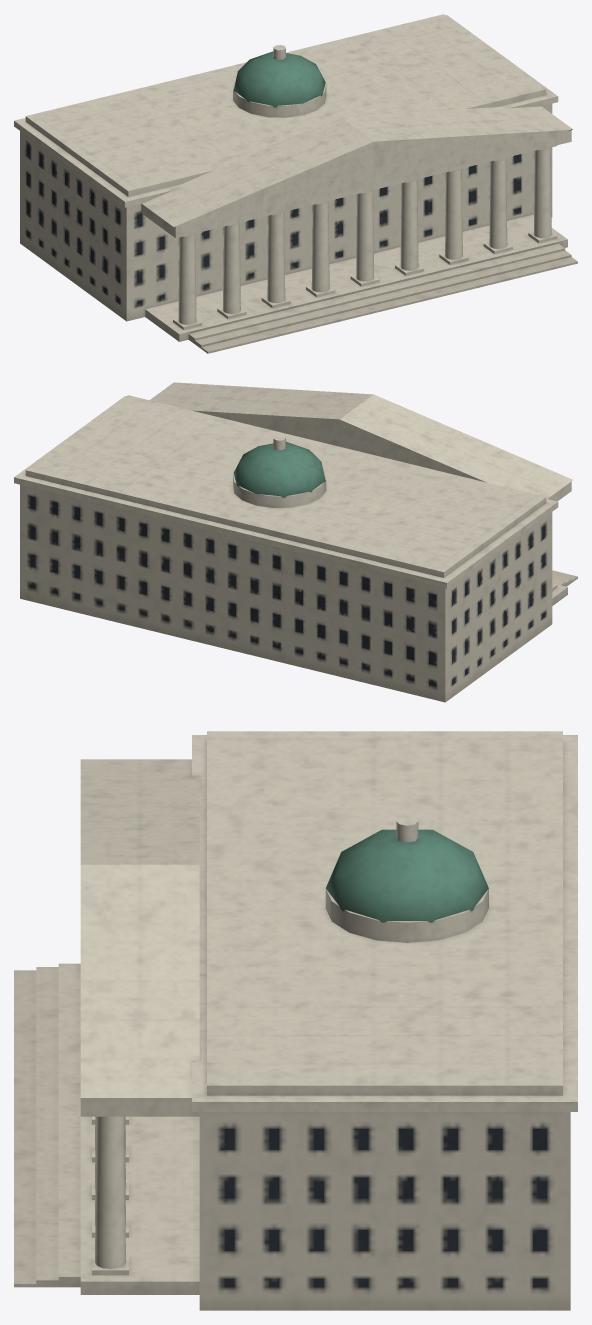
Rendered from civic-hall.fbx.
The picture shows the model from 3 angles, top to bottom: view 1: azimuth 30°, elevation 25°; view 2: azimuth 150°, elevation 25°; view 3: azimuth 270°, elevation 25°; orthographic projection. The views are drawn at different scales.
Visible parts, largest first — view 1: civic-hall; view 2: civic-hall; view 3: civic-hall.
Boxes of the visible parts, x1,y1,x2,y2 form: civic-hall: (14,14,577,353); civic-hall: (14,382,577,702); civic-hall: (14,731,577,1310).
Bounding box in the file's own units: 234 × 92 × 152.
1 material, 1 textured.
